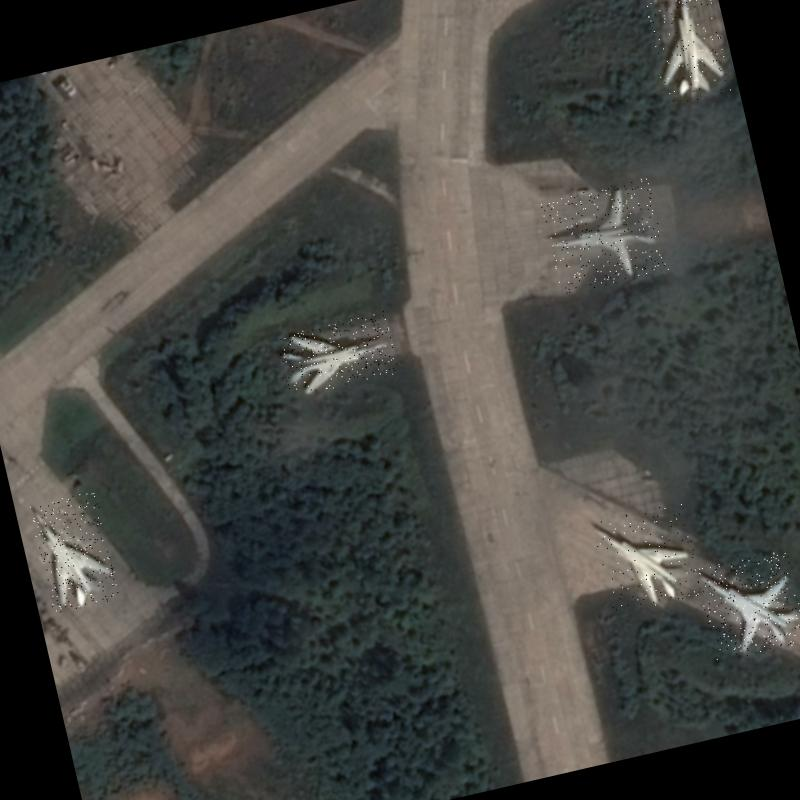A12: (540, 177, 669, 295), (590, 501, 704, 615), (694, 548, 800, 663), (28, 489, 120, 614), (275, 310, 399, 398), (640, 0, 733, 106)
